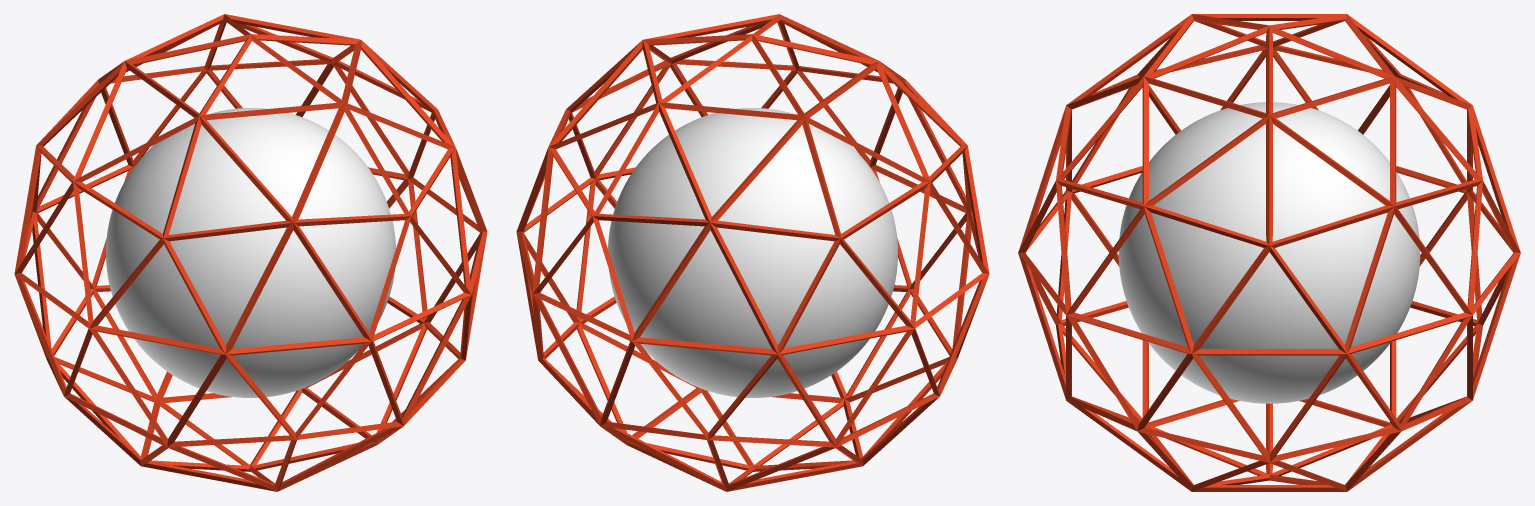
File: compare-sphere.glb
3 renders of one model, left to right at view 1: azimuth 30°, elevation 25°; view 2: azimuth 150°, elevation 25°; view 3: azimuth 270°, elevation 25°, orthographic. The views are drawn at different scales.
Parts seen in each view (by area): view 1: Cage, Ball; view 2: Cage, Ball; view 3: Cage, Ball.
Boxes of the visible parts, x1,y1,x2,y2 form: Cage: (14,14,487,491); Ball: (106,108,395,397); Cage: (516,14,989,491); Ball: (608,108,897,397); Cage: (1018,14,1520,491); Ball: (1118,102,1420,403).
Bounding box in the file's own units: 2.85 × 3 × 3.
